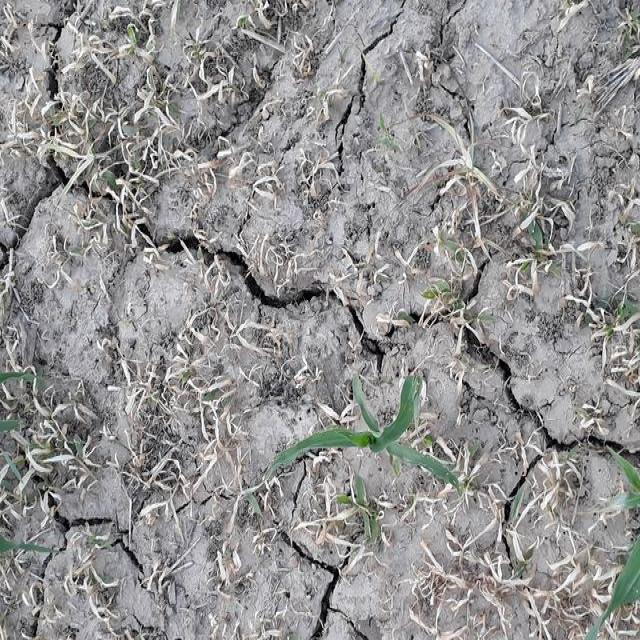weed: (282, 375, 473, 478)
